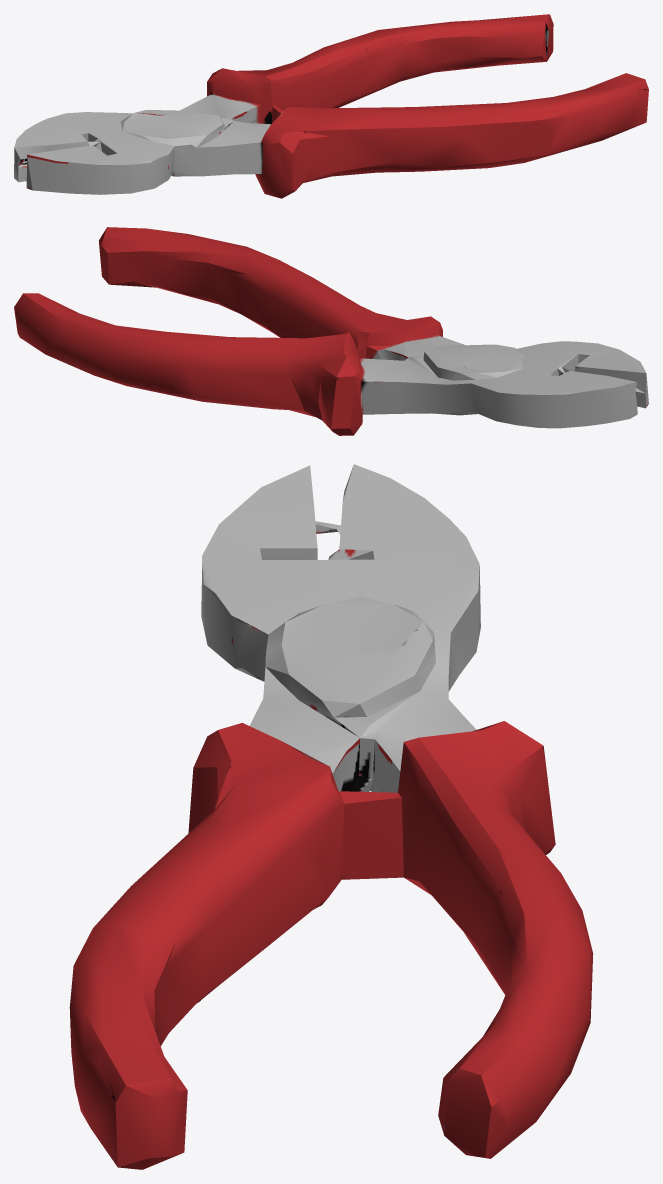
File: Pliers.fbx
The picture shows the model from 3 angles, top to bottom: view 1: azimuth 30°, elevation 25°; view 2: azimuth 150°, elevation 25°; view 3: azimuth 270°, elevation 25°; orthographic projection. The views are drawn at different scales.
Visible parts, largest first — view 1: Mesh1.0; view 2: Mesh1.0; view 3: Mesh1.0.
Part boxes in pixels (box(x1,y1,x2,y2)): Mesh1.0: box(14, 14, 648, 198); Mesh1.0: box(14, 227, 648, 435); Mesh1.0: box(69, 464, 593, 1169).
Size of the model in its own units: 201 by 28.07 by 79.16.
Materials: 1 (1 with a texture image).
